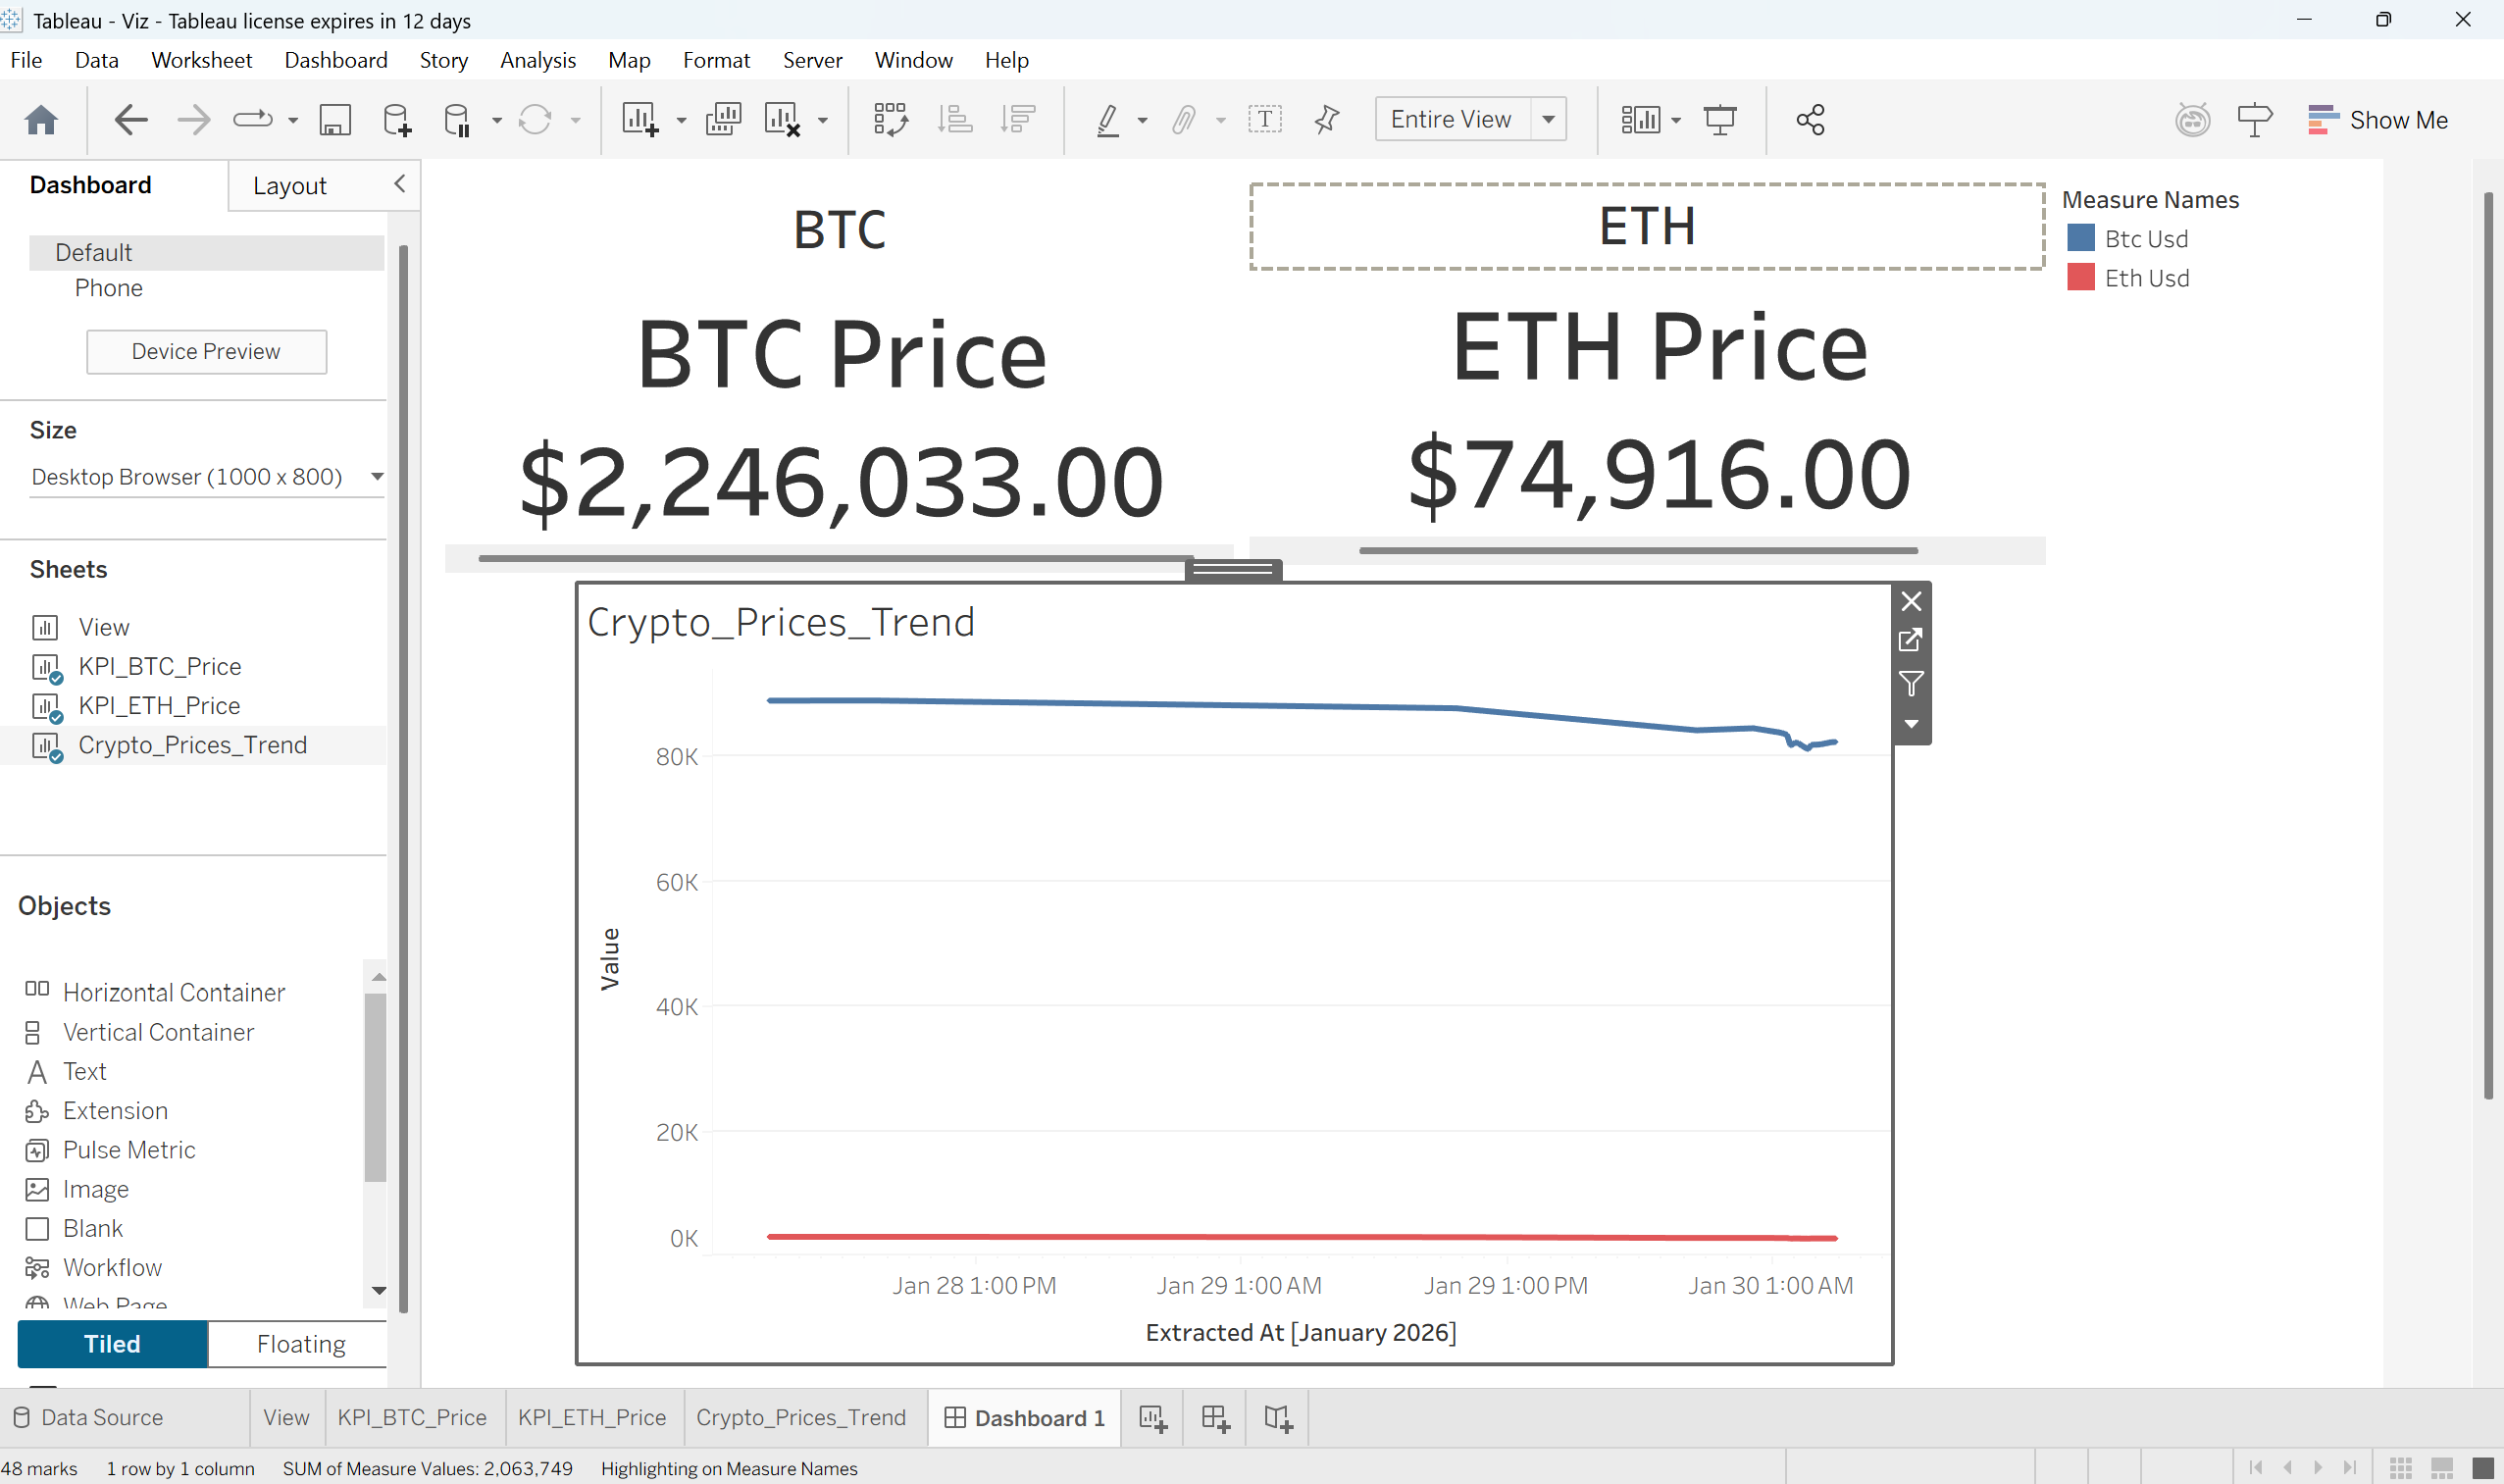

The dashboard page shown, as its layout file describes it:
{"tool":"tableau","page":{"name":"Dashboard 1","canvas":[1000,800],"ordinal":0},"visuals":[{"type":"worksheet","title":"KPI_BTC_Price","mark":"Text","box":[8,8,410,784]},{"type":"worksheet","title":"KPI_ETH_Price","mark":"Text","box":[418,8,414,784]},{"type":"legend","title":"Crypto_Prices_Trend","param":"[federated.0urhxuz12yq2j91fd06z403d4ikq].[:Measure Names]","box":[832,8,160,66]},{"type":"worksheet","title":"Crypto_Prices_Trend","mark":"Automatic","cols":["EXTRACTED_AT"],"box":[80,217,669,396]}]}

Visuals, with their boxes on the page's 1000x800 design canvas (x1, y1, x2, y2). These are canvas units, not pixel positions in the 2504x1484 screenshot, which may show the page scaled, cropped or inside an application window:
"KPI_BTC_Price" worksheet (Text marks): x1=8, y1=8, x2=418, y2=792
"KPI_ETH_Price" worksheet (Text marks): x1=418, y1=8, x2=832, y2=792
"Crypto_Prices_Trend" legend: x1=832, y1=8, x2=992, y2=74
"Crypto_Prices_Trend" worksheet: x1=80, y1=217, x2=749, y2=613
